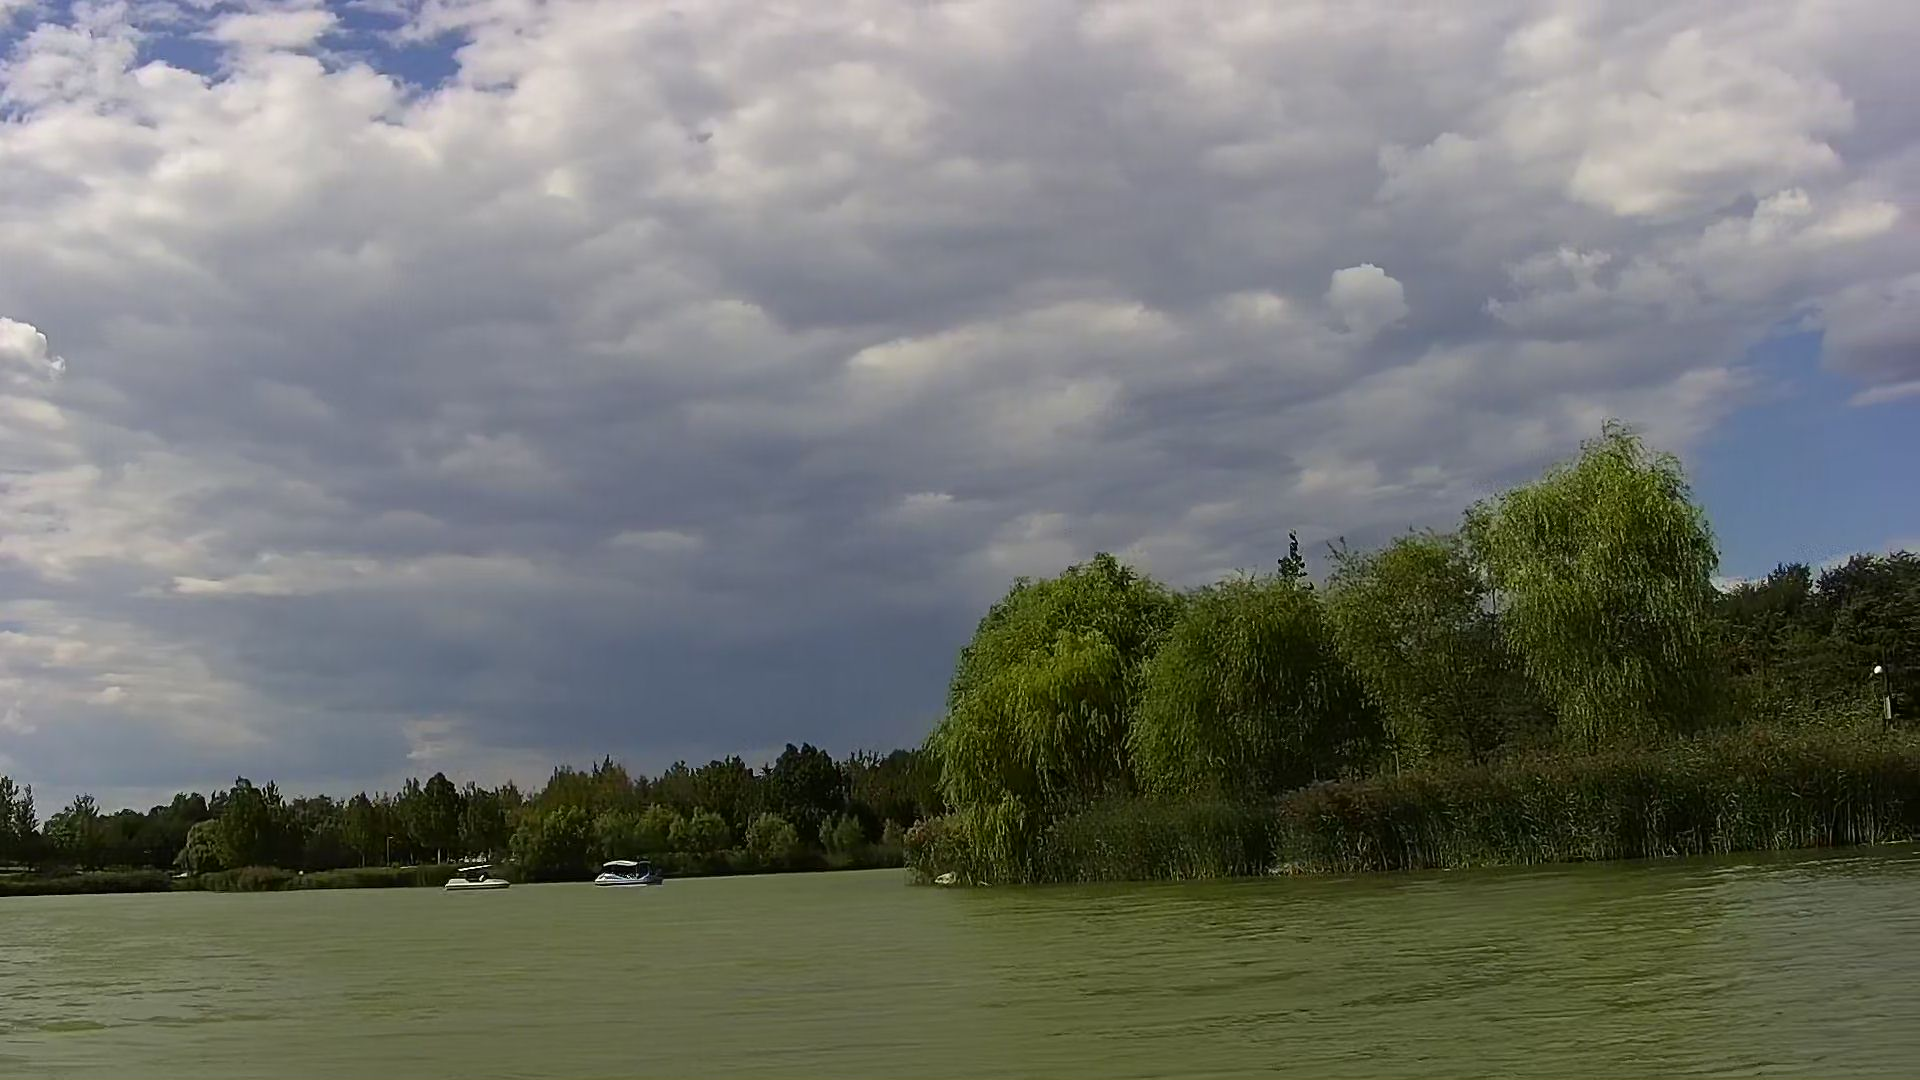boat: (593, 860, 659, 887), (443, 860, 501, 886)
rock: (930, 869, 971, 887)
